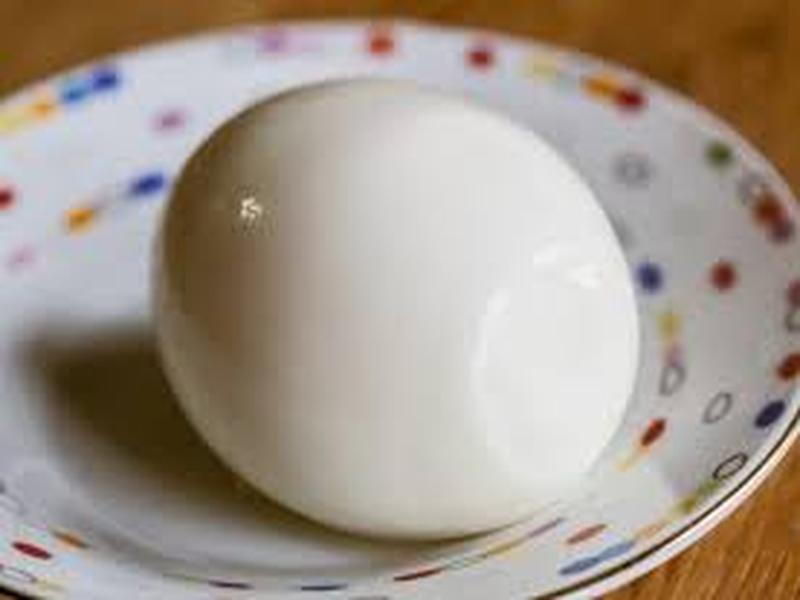egg: (121, 61, 695, 548)
